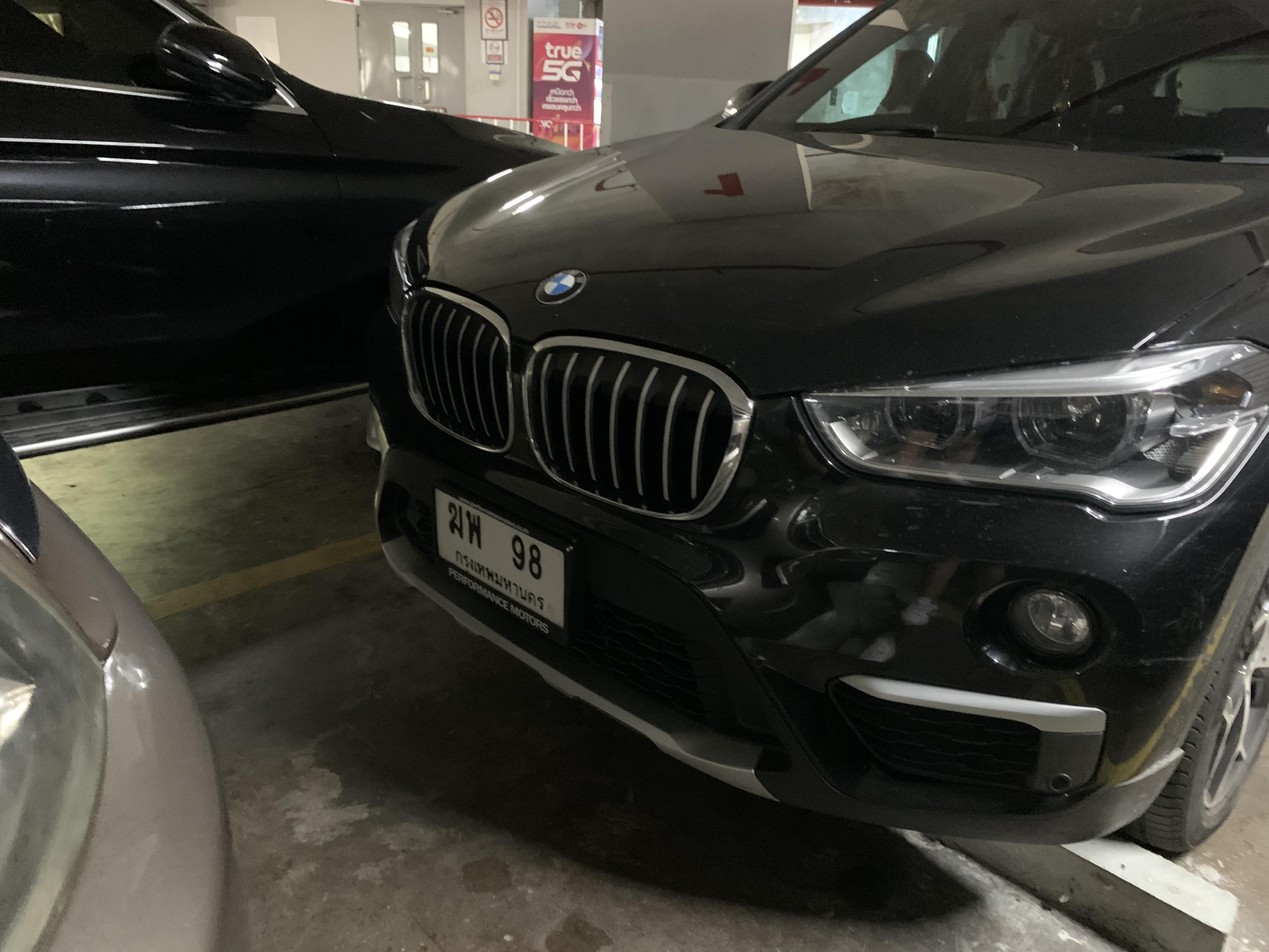license-plate: (429, 480, 578, 647)
